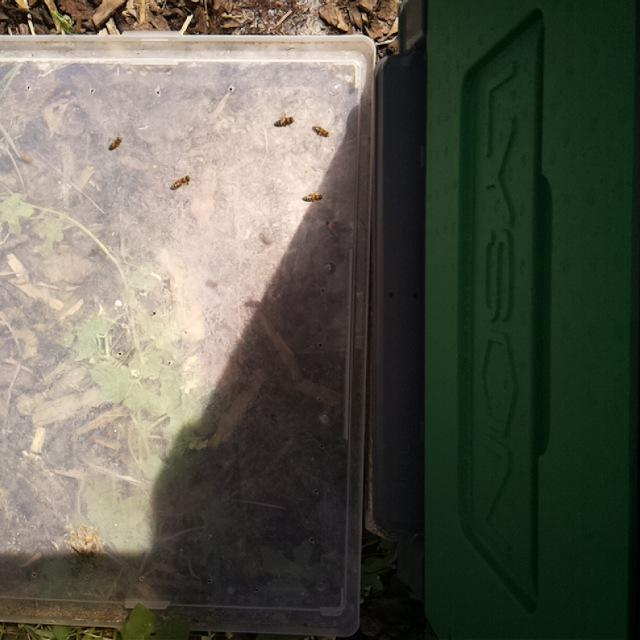worker-bee: (272, 111, 295, 135), (105, 134, 129, 156), (301, 189, 325, 211), (169, 174, 194, 195), (308, 124, 334, 143)
